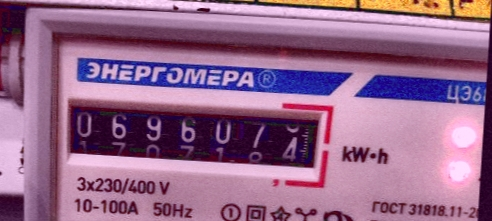0: (212, 116, 233, 147), (73, 110, 93, 139)
4: (280, 135, 298, 164)
6: (177, 115, 198, 146), (108, 111, 129, 140)
7: (248, 120, 267, 151)
9: (143, 114, 162, 143)
screen: (49, 81, 339, 188)
